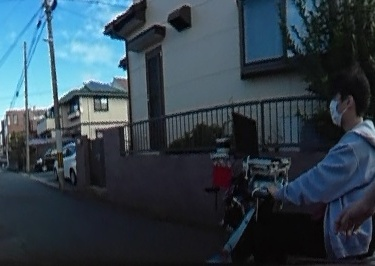person: (278, 66, 375, 266)
